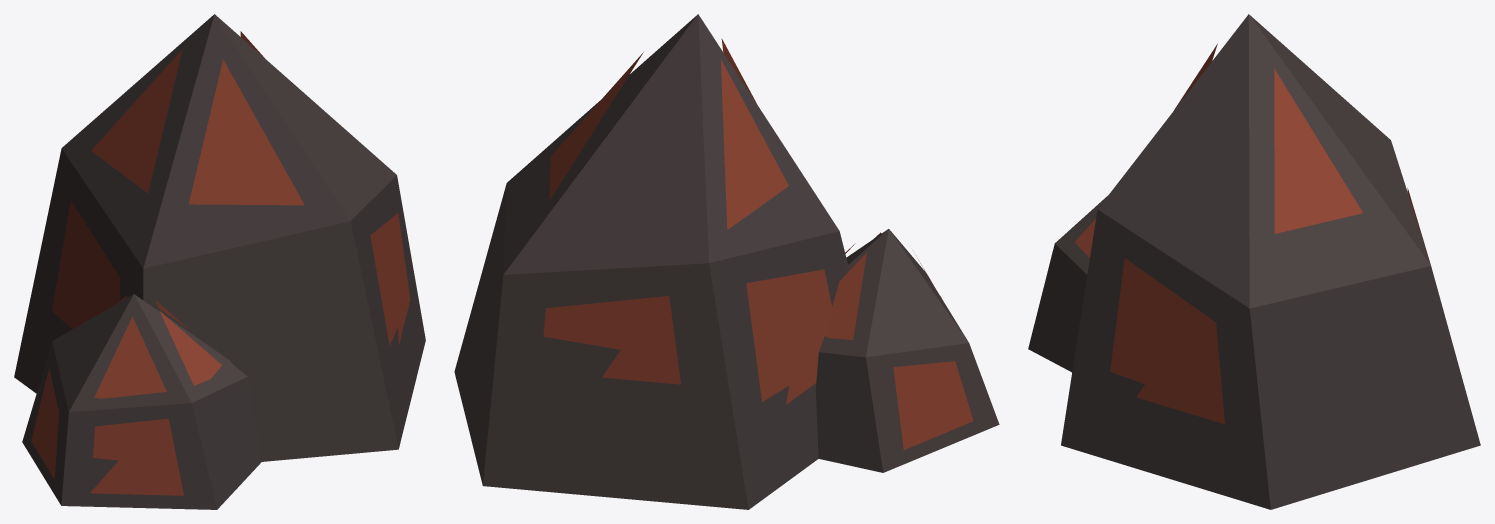
3 renders of one model, left to right at view 1: azimuth 30°, elevation 25°; view 2: azimuth 150°, elevation 25°; view 3: azimuth 270°, elevation 25°, orthographic. The views are drawn at different scales.
Parts seen in each view (by area): view 1: 0ebd686c038365e5ed11b51921b90ade9f303127887d4c318d91c7da4387; view 2: 0ebd686c038365e5ed11b51921b90ade9f303127887d4c318d91c7da4387; view 3: 0ebd686c038365e5ed11b51921b90ade9f303127887d4c318d91c7da4387.
Boxes of the visible parts, left/top/right/bottom form: 0ebd686c038365e5ed11b51921b90ade9f303127887d4c318d91c7da4387: left=14, top=14, right=425, bottom=509; 0ebd686c038365e5ed11b51921b90ade9f303127887d4c318d91c7da4387: left=454, top=14, right=999, bottom=509; 0ebd686c038365e5ed11b51921b90ade9f303127887d4c318d91c7da4387: left=1028, top=14, right=1480, bottom=509.
Size of the model in its own units: 0.9248 by 0.775 by 0.8202.
